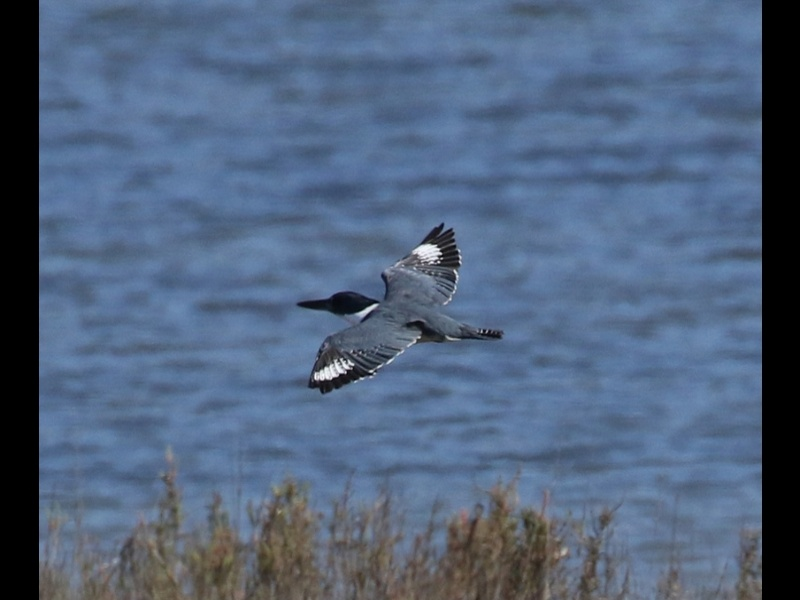kingfisher: (296, 224, 505, 403)
